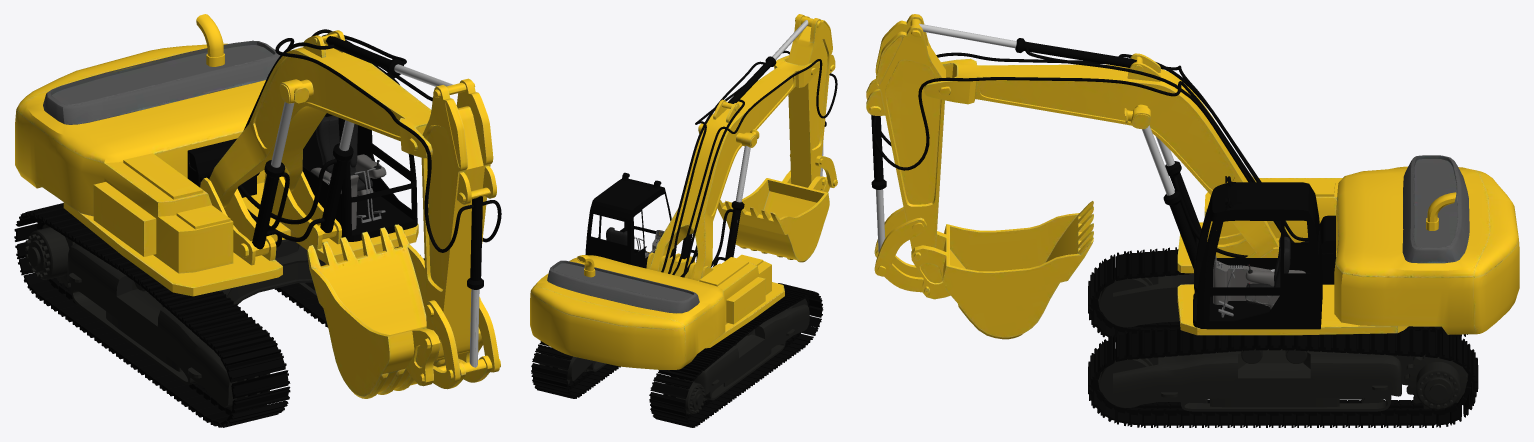
Rendered from excavator.glb.
3 renders of one model, left to right at view 1: azimuth 30°, elevation 25°; view 2: azimuth 150°, elevation 25°; view 3: azimuth 270°, elevation 25°, orthographic. The views are drawn at different scales.
Visible parts, largest first — view 1: Object_3, Object_7, Object_4, Object_5, Object_2, Object_6; view 2: Object_3, Object_7, Object_4, Object_5, Object_2, Object_6; view 3: Object_3, Object_4, Object_7, Object_2, Object_5, Object_6.
Part boxes in pixels (<box>): Object_3: <box>15,14,500,398</box>; Object_7: <box>14,203,424,427</box>; Object_4: <box>25,224,325,409</box>; Object_5: <box>187,29,501,367</box>; Object_2: <box>302,64,417,241</box>; Object_6: <box>310,115,386,230</box>; Object_3: <box>530,14,837,369</box>; Object_7: <box>531,283,823,427</box>; Object_4: <box>538,298,809,414</box>; Object_5: <box>661,20,837,277</box>; Object_2: <box>585,172,674,268</box>; Object_6: <box>606,227,664,257</box>; Object_3: <box>866,14,1519,339</box>; Object_4: <box>1098,273,1471,411</box>; Object_7: <box>1088,247,1478,427</box>; Object_2: <box>1193,176,1322,329</box>; Object_5: <box>871,23,1335,284</box>; Object_6: <box>1213,236,1305,317</box>.
Bounding box in the file's own units: 3.88 × 5.95 × 9.92.
5 materials, 3 textured.
